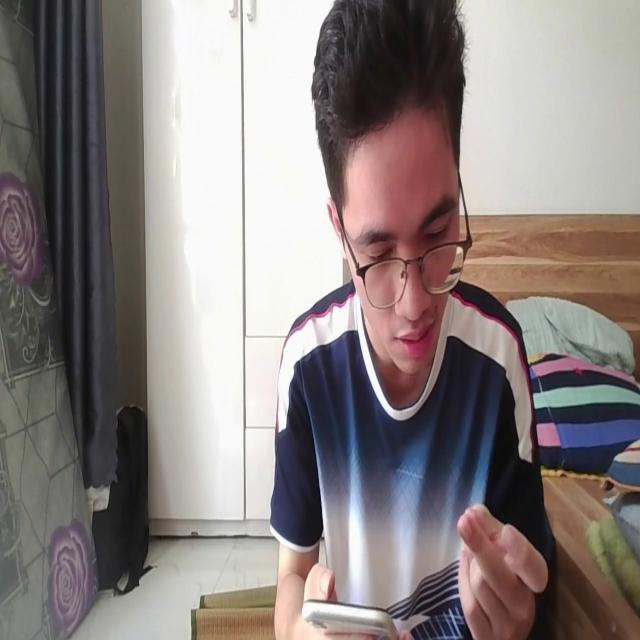phone: (301, 586, 404, 640)
student: (270, 0, 550, 640)
